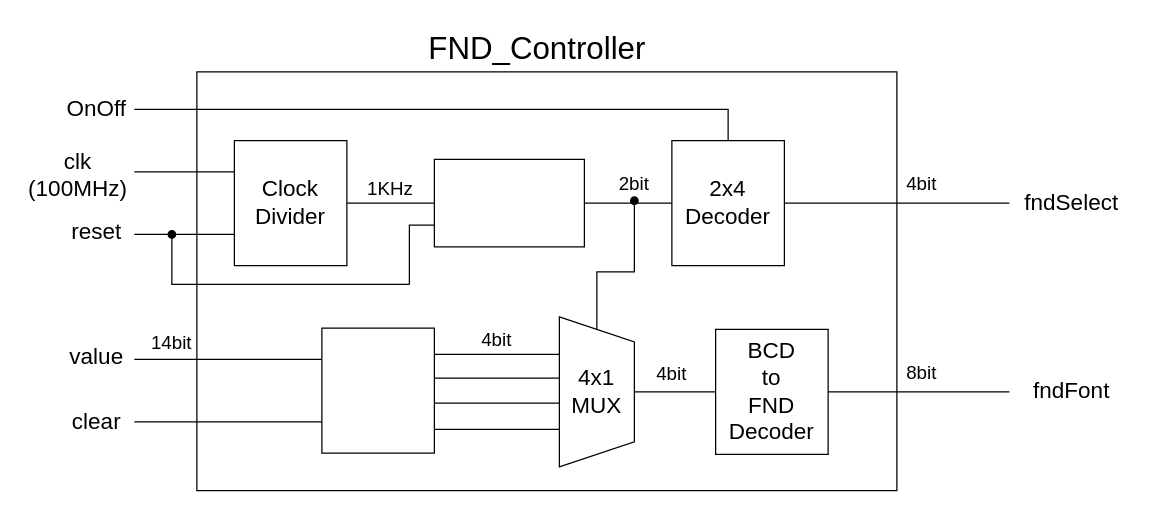
Some shapes in this 1155 by 513 pixel diagram are drawn without their labels. Here are the shapes that lost their labels. From the top down, the centre of each, then its label:
At point 508,202: "Counter".
At point 377,390: "Digit Divider".
